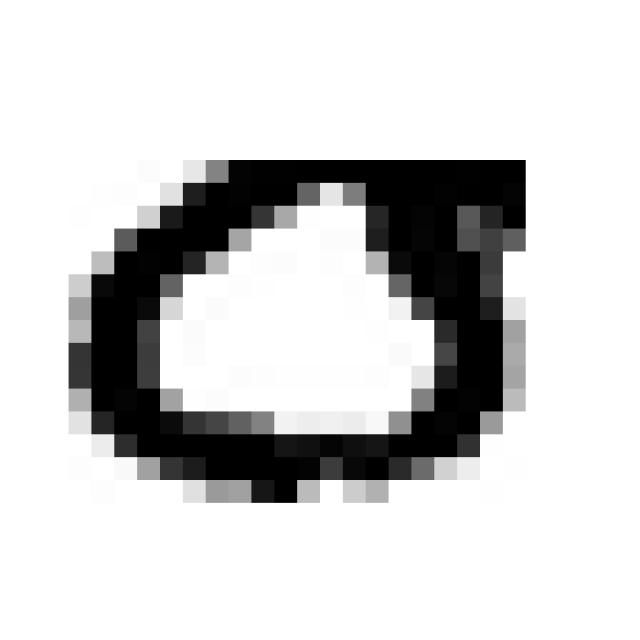5 -five-: (46, 128, 542, 517)
